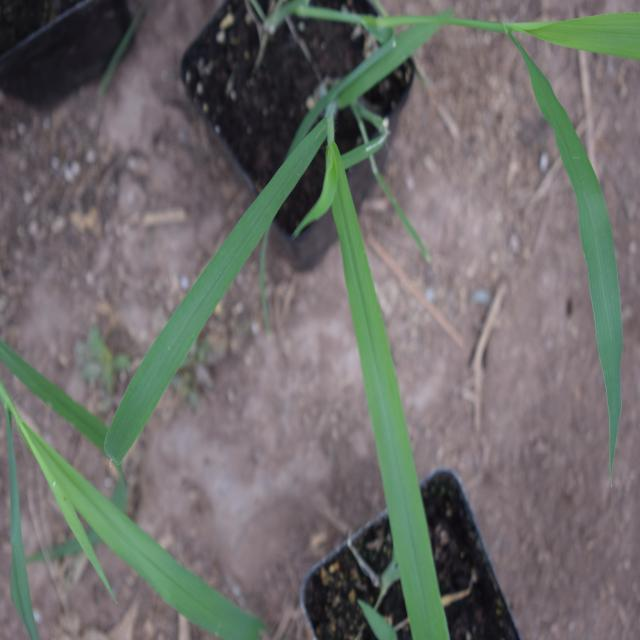crabgrass: (96, 71, 457, 618)
